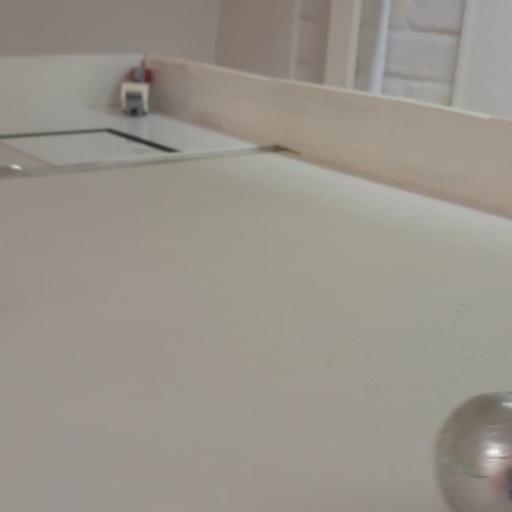alive: (434, 392, 510, 506)
